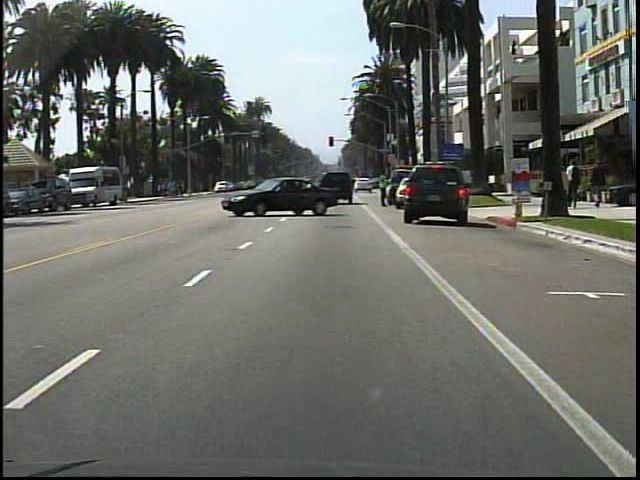person: (588, 155, 610, 210), (567, 158, 584, 210), (377, 170, 394, 211), (557, 163, 569, 211)
